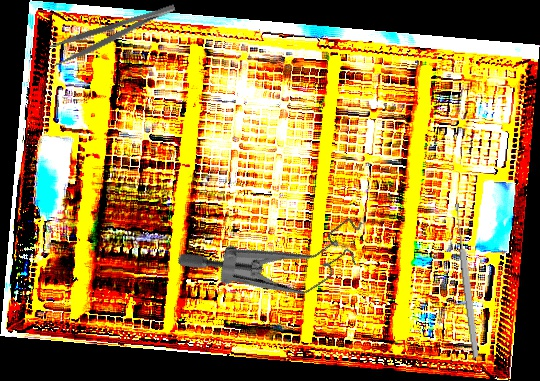Dressing Forceps: (47, 1, 181, 67)
Speculum: (173, 161, 383, 347)
Surgical Spoon: (452, 203, 481, 358)
